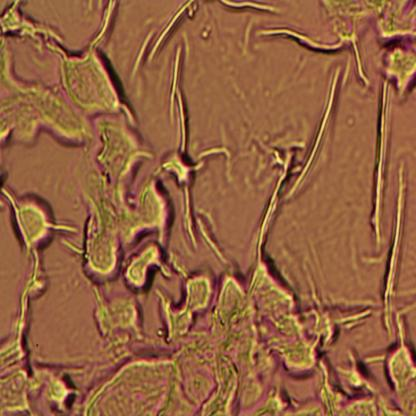Stage I: (0, 255, 416, 416), (0, 0, 160, 416)
